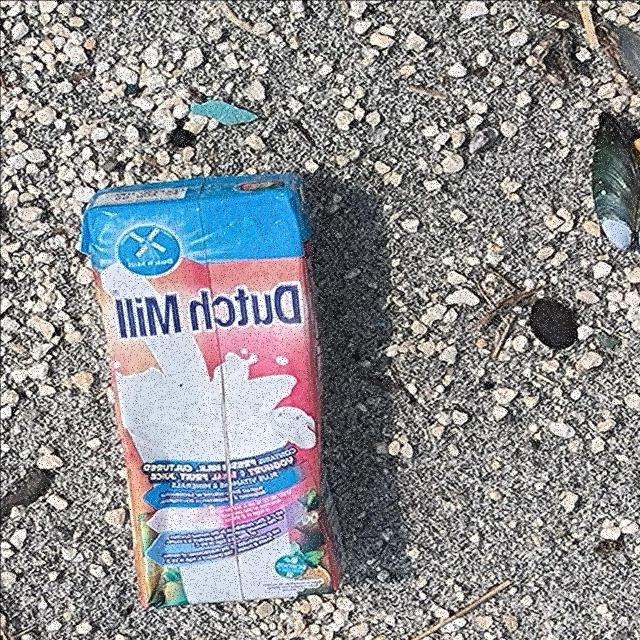cardboard_waste: (81, 172, 348, 610)
